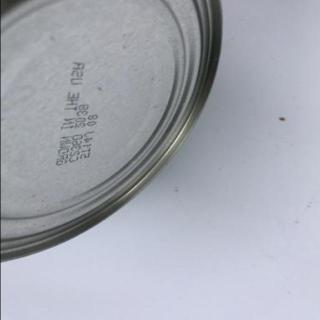Anorganik: (3, 0, 226, 270)
